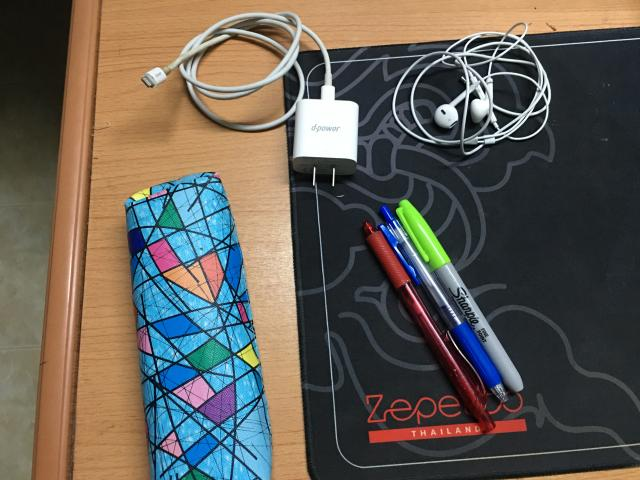Pen: (362, 203, 512, 432), (399, 199, 524, 393)
wire: (142, 11, 359, 175), (392, 22, 551, 155)
